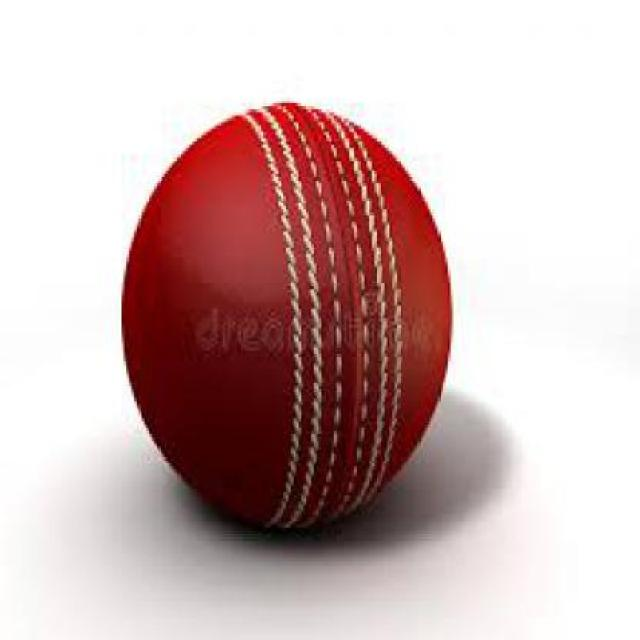ball: (98, 70, 480, 582)
